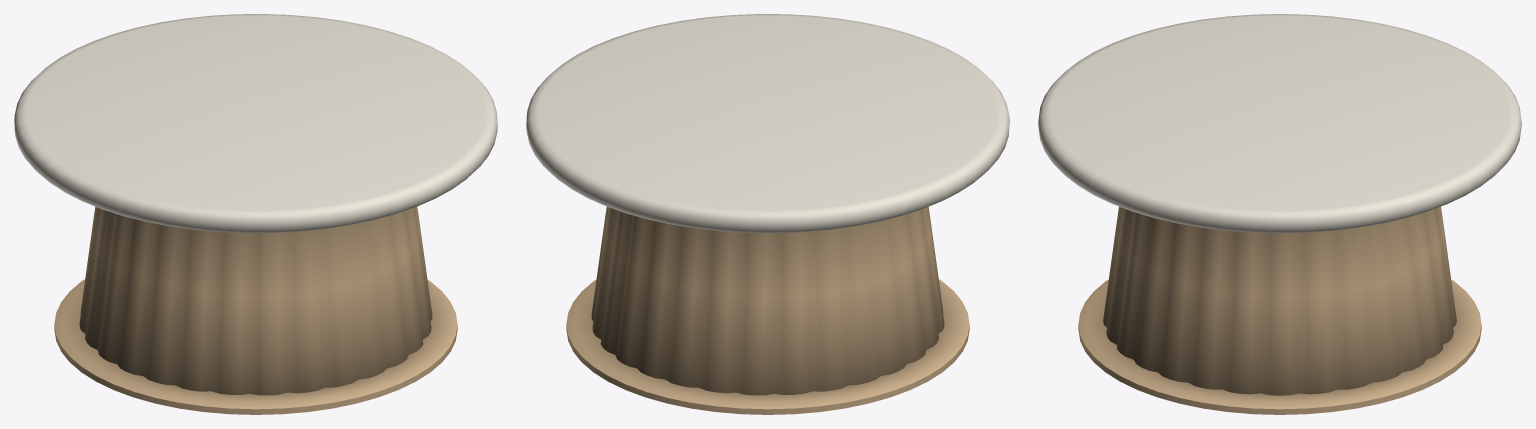
Rendered from coffeeTableRound.glb.
3 renders of one model, left to right at view 1: azimuth 30°, elevation 25°; view 2: azimuth 150°, elevation 25°; view 3: azimuth 270°, elevation 25°, orthographic.
Parts seen in each view (by area): view 1: coffeeTableRound; view 2: coffeeTableRound; view 3: coffeeTableRound.
Part boxes in pixels (x1,y1,x2,y2): coffeeTableRound: (14,14,497,414); coffeeTableRound: (526,14,1009,414); coffeeTableRound: (1038,14,1521,414).
Size of the model in its own units: 0.84 by 0.42 by 0.84.
